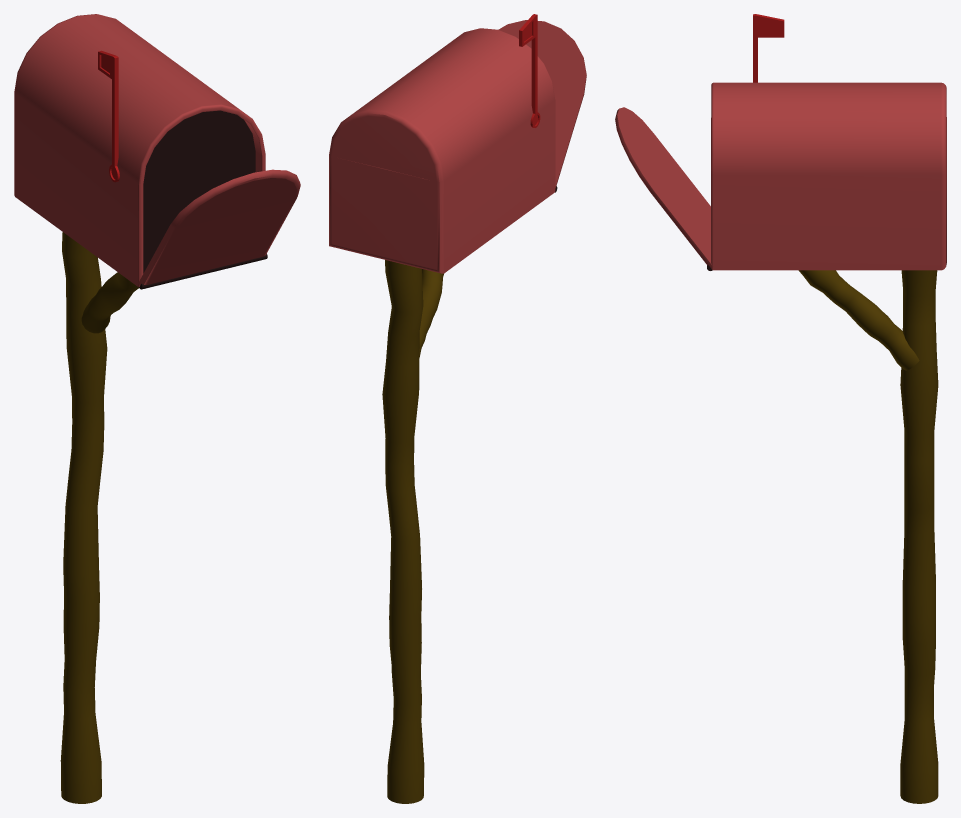
The model's file is MailBox.fbx.
3 views of the same model, side by side, from view 1: azimuth 30°, elevation 25°; view 2: azimuth 150°, elevation 25°; view 3: azimuth 270°, elevation 25° (orthographic). The views are drawn at different scales.
Visible parts, largest first — view 1: box1, wood2, box2, wood, red_flag1; view 2: box1, wood2, box2, wood, red_flag1; view 3: box1, wood2, box2, wood, red_flag1.
Boxes of the visible parts, bbox=[...] form: box1: bbox=[14, 14, 265, 286]; wood2: bbox=[60, 232, 107, 803]; box2: bbox=[138, 169, 300, 285]; wood: bbox=[81, 272, 139, 333]; red_flag1: bbox=[98, 50, 119, 182]; box1: bbox=[329, 28, 555, 273]; wood2: bbox=[382, 260, 424, 803]; box2: bbox=[498, 20, 586, 188]; wood: bbox=[419, 269, 443, 357]; red_flag1: bbox=[519, 14, 540, 127]; box1: bbox=[711, 82, 946, 270]; wood2: bbox=[900, 270, 938, 803]; box2: bbox=[615, 107, 712, 268]; wood: bbox=[798, 270, 919, 370]; red_flag1: bbox=[753, 14, 784, 82].
Bounding box in the file's own units: 23.26 × 141 × 55.9.
